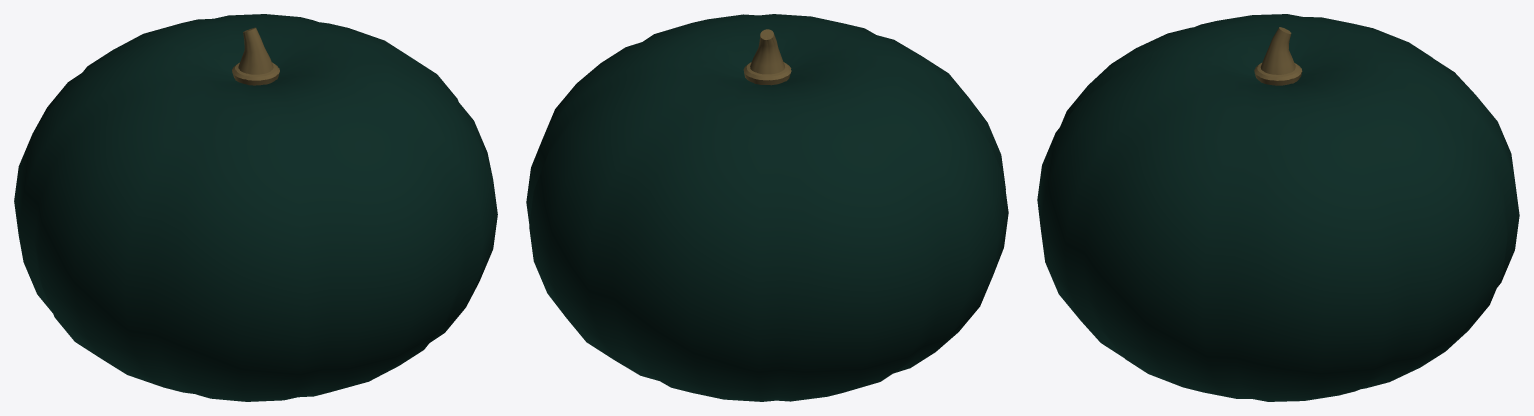
Rendered from pumpkin.fbx.
3 renders of one model, left to right at view 1: azimuth 30°, elevation 25°; view 2: azimuth 150°, elevation 25°; view 3: azimuth 270°, elevation 25°, orthographic.
Parts seen in each view (by area): view 1: Sphere.001, Sphere.002; view 2: Sphere.001, Sphere.002; view 3: Sphere.001, Sphere.002.
Boxes of the visible parts, x1,y1,x2,y2 form: Sphere.001: (14,14,497,401); Sphere.002: (232,27,279,85); Sphere.001: (526,14,1008,401); Sphere.002: (743,29,791,85); Sphere.001: (1037,14,1519,401); Sphere.002: (1254,27,1302,85).
Bounding box in the file's own units: 245 × 180 × 245.
